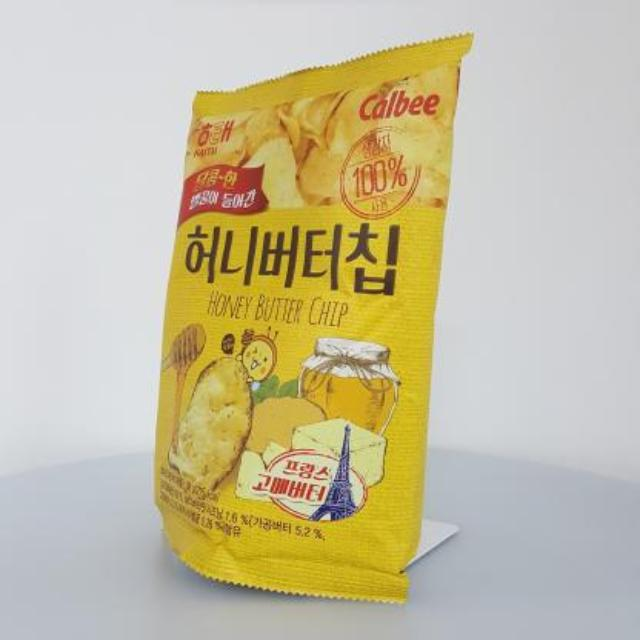snack_bag: (142, 28, 482, 608)
